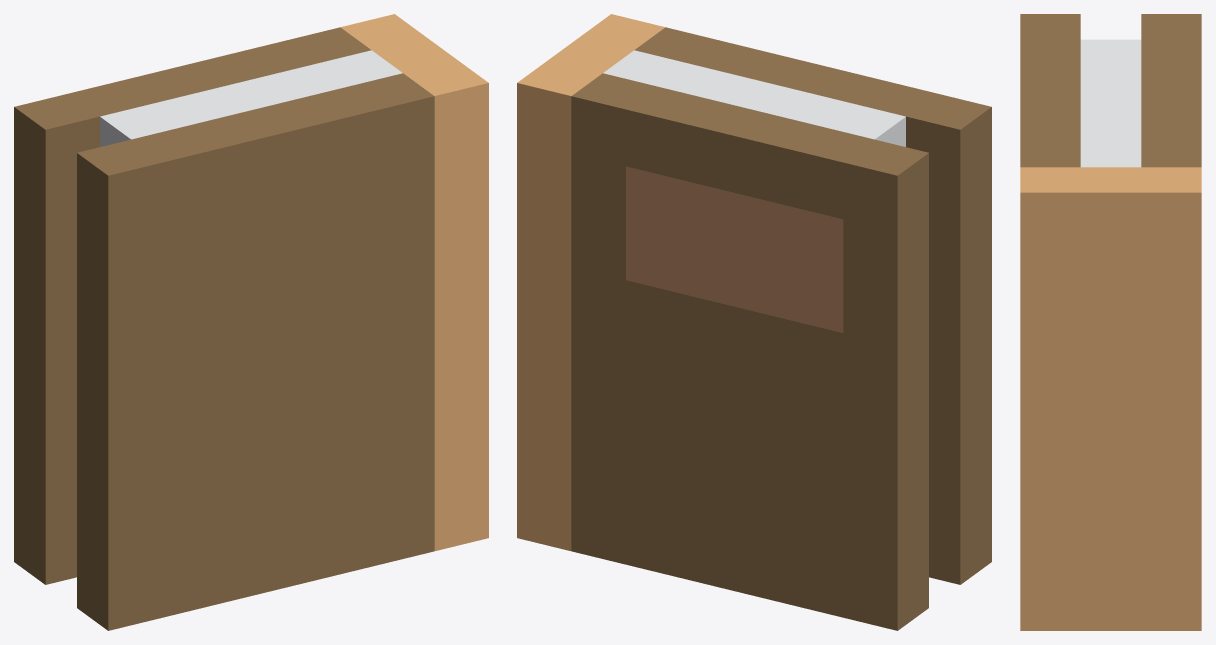
Rendered from book-brown.obj.
3 renders of one model, left to right at view 1: azimuth 30°, elevation 25°; view 2: azimuth 150°, elevation 25°; view 3: azimuth 270°, elevation 25°, orthographic. The views are drawn at different scales.
Size of the model in its own units: 0.7 by 0.8 by 0.3.
Materials: 1 (1 with a texture image).
